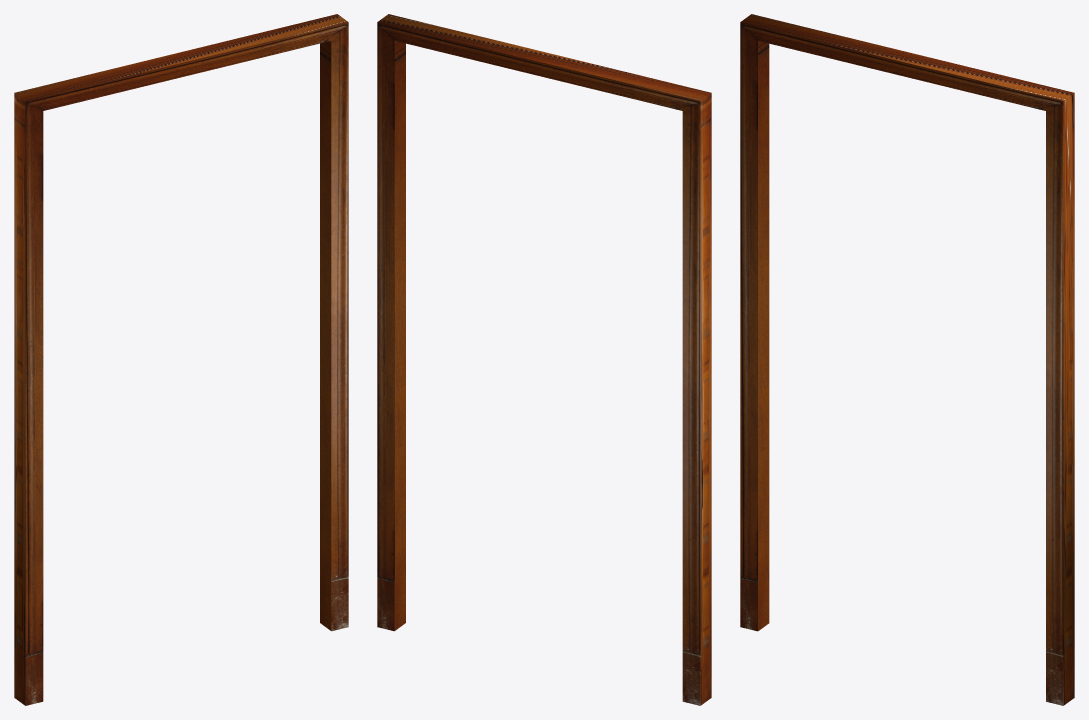
The model's file is doorFrameV2.glb.
3 views of the same model, side by side, from view 1: azimuth 30°, elevation 25°; view 2: azimuth 150°, elevation 25°; view 3: azimuth 330°, elevation 25° (orthographic).
Visible parts, largest first — view 1: InteriorDoor; view 2: InteriorDoor; view 3: InteriorDoor.
Boxes of the visible parts, bbox=[...] form: InteriorDoor: bbox=[14, 14, 348, 705]; InteriorDoor: bbox=[377, 14, 711, 705]; InteriorDoor: bbox=[740, 14, 1074, 705].
Bounding box in the file's own units: 51.91 × 92.83 × 3.14.
1 material, 1 textured.
